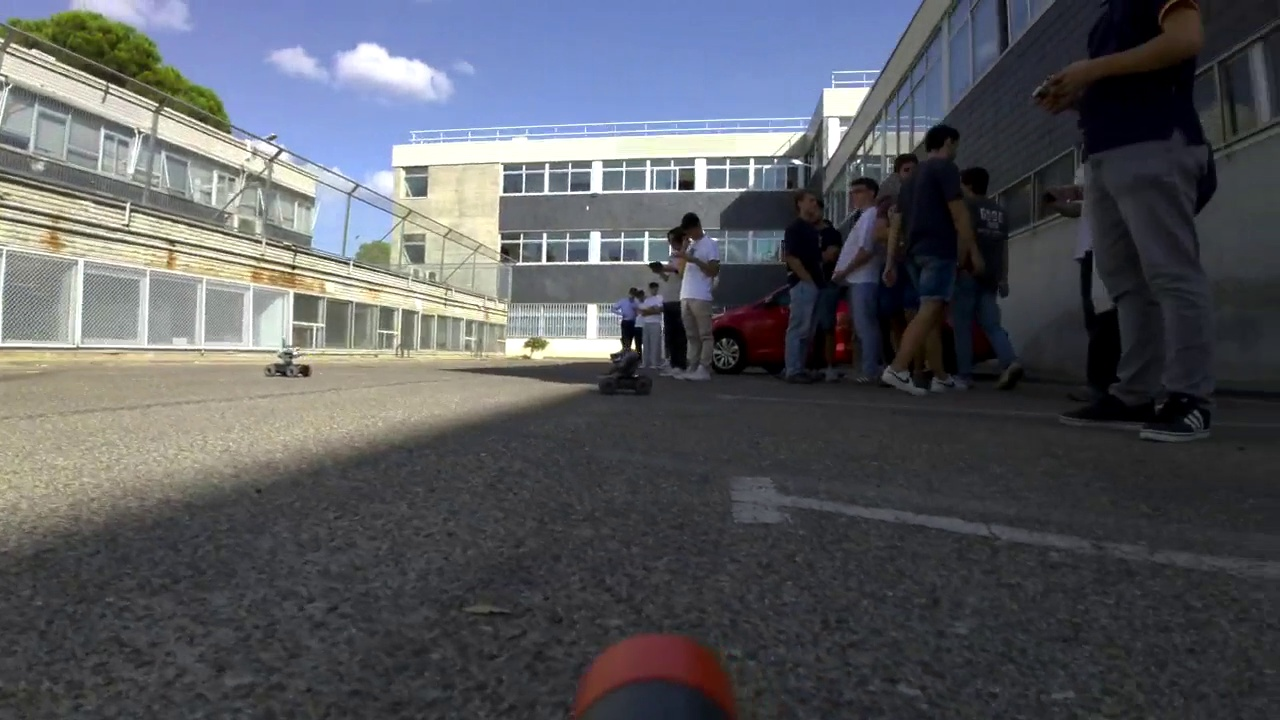robot: (596, 339, 658, 394), (270, 337, 309, 383)
